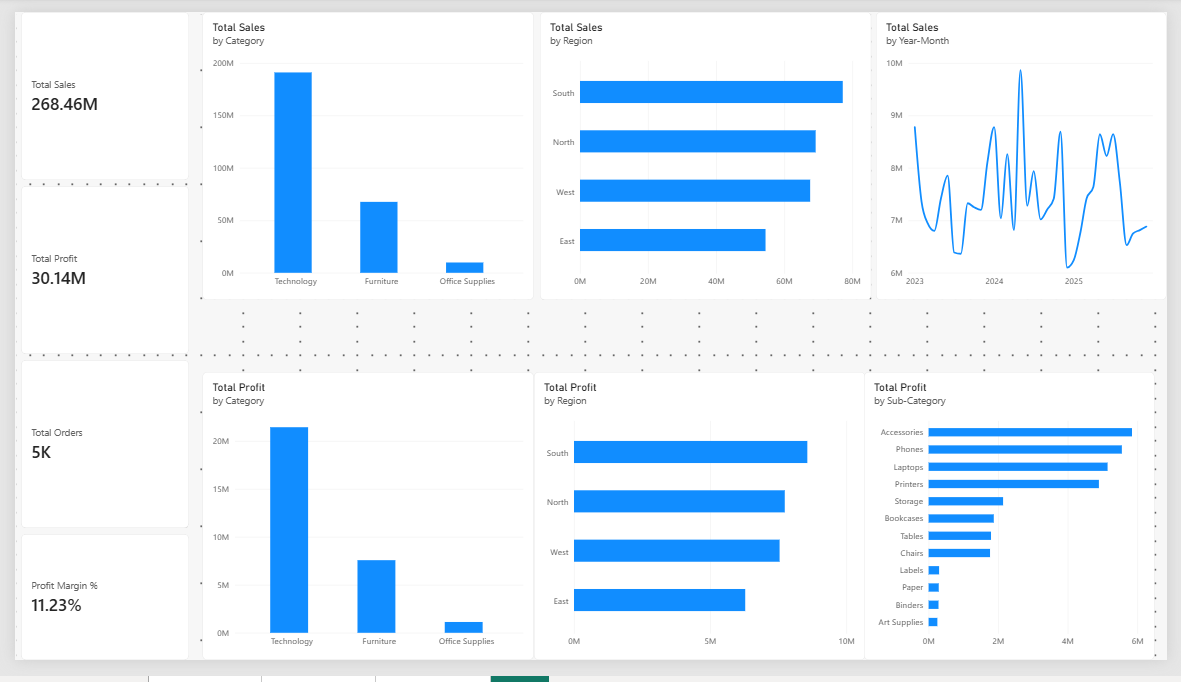

The dashboard page shown, as its layout file describes it:
{"tool":"powerbi","page":{"name":"Page 1","canvas":[1920,1080],"ordinal":0},"visuals":[{"type":"cardVisual","fields":{"Data":["Calendar.Total Sales"]},"box":[10,0,280,280],"z":0},{"type":"cardVisual","fields":{"Data":["Sales_Data.Total Profit"]},"box":[10,290,280,280],"z":1000},{"type":"cardVisual","fields":{"Data":["Sales_Data.Total Orders"]},"box":[10,580,280,280],"z":2000},{"type":"cardVisual","fields":{"Data":["Sales_Data.Profit Margin %"]},"box":[10,870,280,210],"z":3000},{"type":"clusteredColumnChart","fields":{"Category":["Sales_Data.Category"],"Y":["Calendar.Total Sales"]},"box":[312,0,552,480],"z":4000},{"type":"clusteredBarChart","fields":{"Category":["Sales_Data.Region"],"Y":["Calendar.Total Sales"]},"box":[874,0,552,480],"z":5000},{"type":"lineChart","fields":{"Category":["Calendar.Year-Month"],"Y":["Calendar.Total Sales"]},"box":[1436,0,484,480],"z":6000},{"type":"clusteredColumnChart","fields":{"Category":["Sales_Data.Category"],"Y":["Sales_Data.Total Profit"]},"box":[312,480,552,480],"z":7000},{"type":"barChart","fields":{"Category":["Sales_Data.Region"],"Y":["Sales_Data.Total Profit"]},"box":[874,480,552,480],"z":8000},{"type":"clusteredBarChart","fields":{"Category":["Sales_Data.Sub-Category"],"Y":["Sales_Data.Total Profit"]},"box":[1436,480,484,480],"z":9000}]}

Visuals, with their boxes in screenshot pixels (x1, y1, x2, y2), scaled from the page's 1920x1080 canvas onto the 1181x682 screenshot:
cardVisual - Calendar.Total Sales: crop(6, 0, 178, 177)
cardVisual - Sales_Data.Total Profit: crop(6, 183, 178, 360)
cardVisual - Sales_Data.Total Orders: crop(6, 366, 178, 543)
cardVisual - Sales_Data.Profit Margin %: crop(6, 549, 178, 681)
clusteredColumnChart - Sales_Data.Category x Calendar.Total Sales: crop(192, 0, 531, 303)
clusteredBarChart - Sales_Data.Region x Calendar.Total Sales: crop(538, 0, 877, 303)
lineChart - Calendar.Year-Month x Calendar.Total Sales: crop(883, 0, 1180, 303)
clusteredColumnChart - Sales_Data.Category x Sales_Data.Total Profit: crop(192, 303, 531, 606)
barChart - Sales_Data.Region x Sales_Data.Total Profit: crop(538, 303, 877, 606)
clusteredBarChart - Sales_Data.Sub-Category x Sales_Data.Total Profit: crop(883, 303, 1180, 606)
